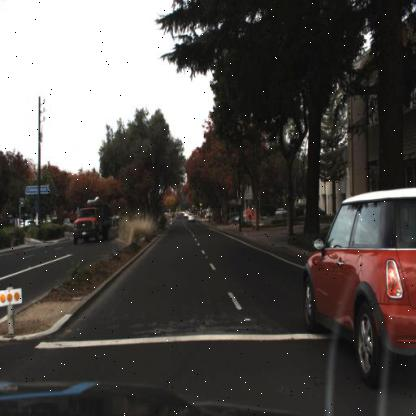car: (304, 187, 416, 387), (72, 197, 110, 245), (274, 204, 290, 218), (187, 212, 196, 223)
